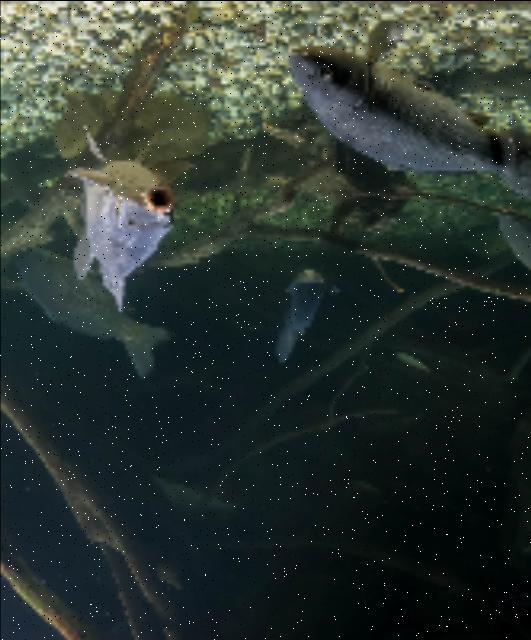Mulut: (114, 171, 211, 225)
Sirip Dada: (332, 6, 414, 78)
Sirip Ekor: (117, 307, 181, 385)
Sirip Perut: (75, 109, 158, 161)
